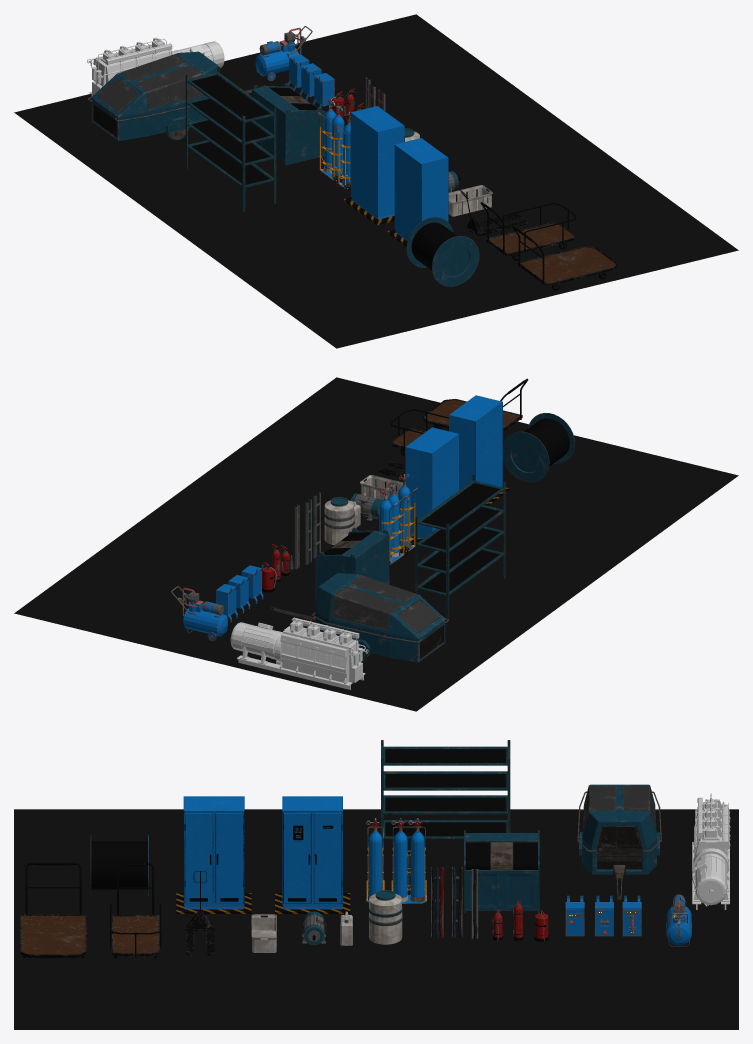
Rendered from prototype.fbx.
3 views of the same model, one above another, from view 1: azimuth 30°, elevation 25°; view 2: azimuth 150°, elevation 25°; view 3: azimuth 270°, elevation 25° (orthographic). The views are drawn at different scales.
Parts seen in each view (by area): view 1: base_base_0, compressor1_atlas3_0, storage3_storage1_0, automation cabinet2_automation_0, automation cabinet1_automation_0, storage1_atlas3_0, wire4_atlas3_0, trolley3_trolleys_0, generator_generator_0, trolley2_trolleys_0, gas2_gas_0, compressor2_atlas2_0 (+4 smaller); view 2: base_base_0, compressor1_atlas3_0, storage3_storage1_0, generator_generator_0, automation cabinet2_automation_0, automation cabinet1_automation_0, wire4_atlas3_0, storage1_atlas3_0, compressor2_atlas2_0, gas2_gas_0, canister1_atlas1_0, trolley3_trolleys_0 (+4 smaller); view 3: base_base_0, storage3_storage1_0, automation cabinet1_automation_0, automation cabinet2_automation_0, compressor1_atlas3_0, storage1_atlas3_0, generator_generator_0, trolley3_trolleys_0, wire4_atlas3_0, trolley2_trolleys_0, gas2_gas_0, canister1_atlas1_0 (+11 smaller).
Boxes of the visible parts, x1=… form: base_base_0: x1=14, y1=14, x2=738, y2=348; compressor1_atlas3_0: x1=87, y1=51, x2=265, y2=140; storage3_storage1_0: x1=185, y1=66, x2=276, y2=211; automation cabinet2_automation_0: x1=343, y1=106, x2=404, y2=225; automation cabinet1_automation_0: x1=387, y1=138, x2=448, y2=246; storage1_atlas3_0: x1=252, y1=83, x2=325, y2=165; wire4_atlas3_0: x1=406, y1=217, x2=479, y2=286; trolley3_trolleys_0: x1=512, y1=226, x2=617, y2=290; generator_generator_0: x1=87, y1=37, x2=224, y2=96; trolley2_trolleys_0: x1=480, y1=202, x2=576, y2=260; gas2_gas_0: x1=317, y1=98, x2=344, y2=184; compressor2_atlas2_0: x1=255, y1=26, x2=312, y2=81; base_base_0: x1=14, y1=377, x2=738, y2=711; compressor1_atlas3_0: x1=270, y1=573, x2=448, y2=662; storage3_storage1_0: x1=415, y1=474, x2=505, y2=619; generator_generator_0: x1=230, y1=617, x2=368, y2=689; automation cabinet2_automation_0: x1=405, y1=427, x2=458, y2=542; automation cabinet1_automation_0: x1=448, y1=395, x2=509, y2=505; wire4_atlas3_0: x1=503, y1=413, x2=574, y2=482; storage1_atlas3_0: x1=315, y1=527, x2=389, y2=600; compressor2_atlas2_0: x1=171, y1=586, x2=227, y2=641; gas2_gas_0: x1=379, y1=482, x2=406, y2=568; canister1_atlas1_0: x1=324, y1=497, x2=354, y2=545; trolley3_trolleys_0: x1=423, y1=378, x2=528, y2=431; base_base_0: x1=14, y1=809, x2=738, y2=1029; storage3_storage1_0: x1=381, y1=740, x2=510, y2=865; automation cabinet1_automation_0: x1=176, y1=796, x2=251, y2=913; automation cabinet2_automation_0: x1=275, y1=796, x2=350, y2=913; compressor1_atlas3_0: x1=577, y1=784, x2=661, y2=900; storage1_atlas3_0: x1=464, y1=830, x2=539, y2=912; generator_generator_0: x1=692, y1=793, x2=730, y2=909; trolley3_trolleys_0: x1=20, y1=862, x2=86, y2=957; wire4_atlas3_0: x1=90, y1=834, x2=148, y2=895; trolley2_trolleys_0: x1=110, y1=863, x2=161, y2=958; gas2_gas_0: x1=391, y1=818, x2=426, y2=903; canister1_atlas1_0: x1=368, y1=890, x2=402, y2=944.
Size of the model in its own units: 82.06 by 18.79 by 114.
